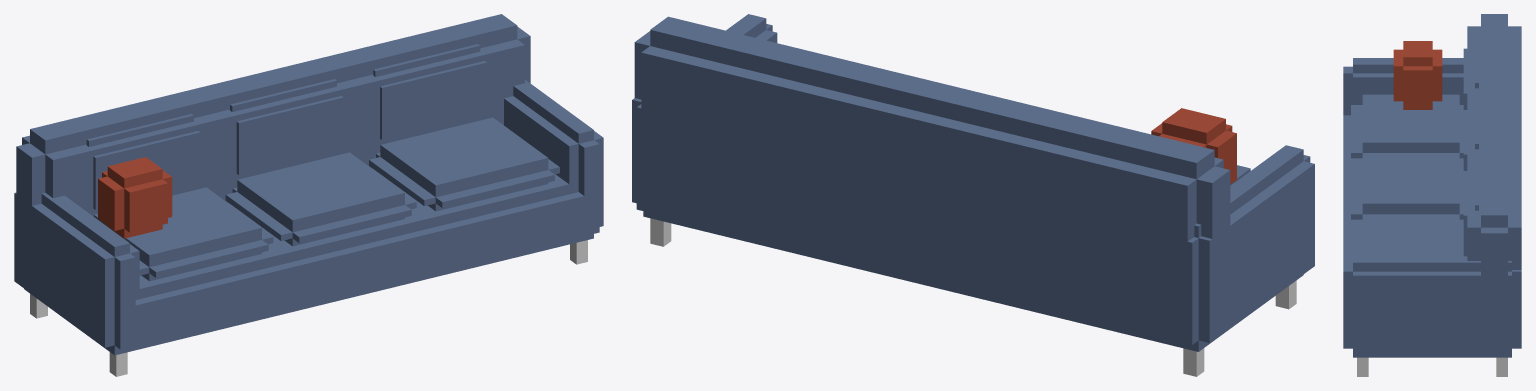
File: sofa3-slate.glb
3 renders of one model, left to right at view 1: azimuth 30°, elevation 25°; view 2: azimuth 150°, elevation 25°; view 3: azimuth 270°, elevation 25°, orthographic. The views are drawn at different scales.
Visible parts, largest first — view 1: sofa3-slate; view 2: sofa3-slate; view 3: sofa3-slate.
Part boxes in pixels (<box>): sofa3-slate: <box>14,14,603,376</box>; sofa3-slate: <box>632,14,1314,376</box>; sofa3-slate: <box>1343,14,1521,376</box>.
Size of the model in its own units: 2.99 by 1.06 by 1.06.
